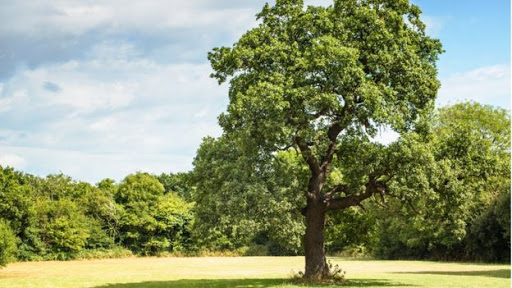tree: (206, 1, 447, 284)
